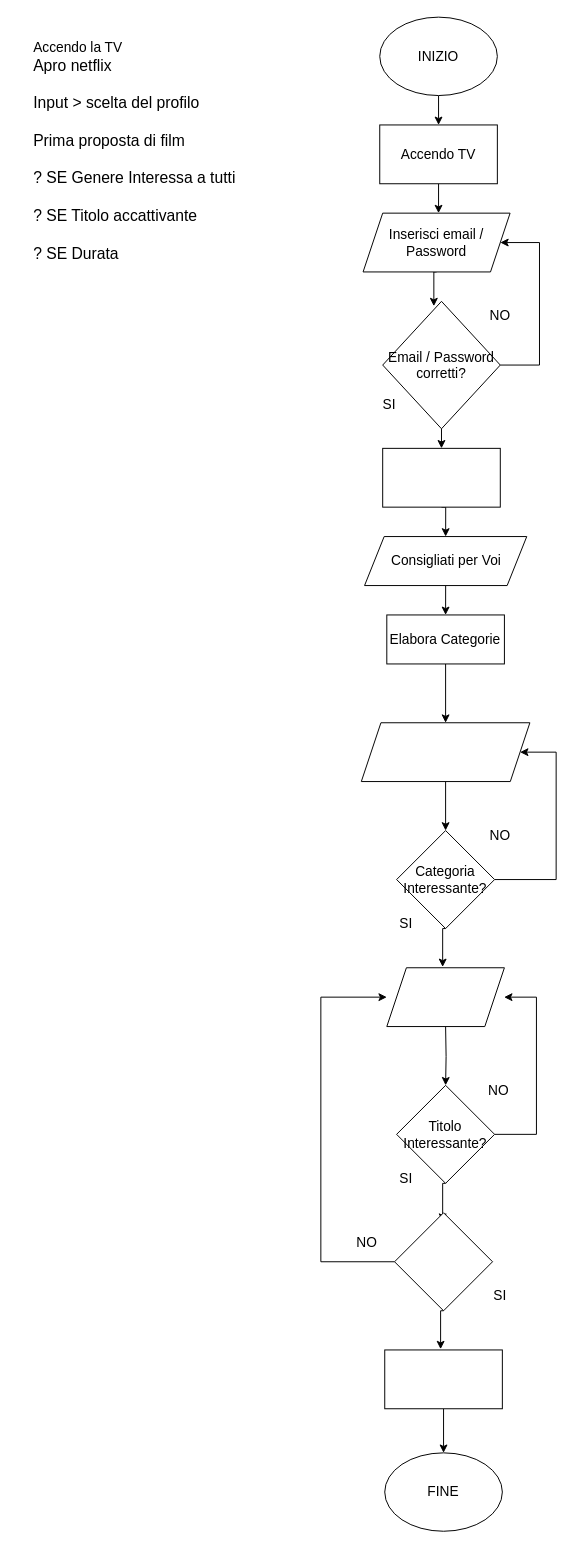
Image size: 581x1556. Some labels were removed from this diagram. The box of each missing label's shape, as (x1, y1, x2, y2) in pixels:
Apri libreria film: (382, 447, 500, 507)
Durata adeguata?: (394, 1212, 493, 1311)
Mostra Categorie: (360, 722, 530, 782)
Mostra Titoli della Categoria: (386, 967, 504, 1027)
Riproduci titolo: (384, 1349, 502, 1409)
